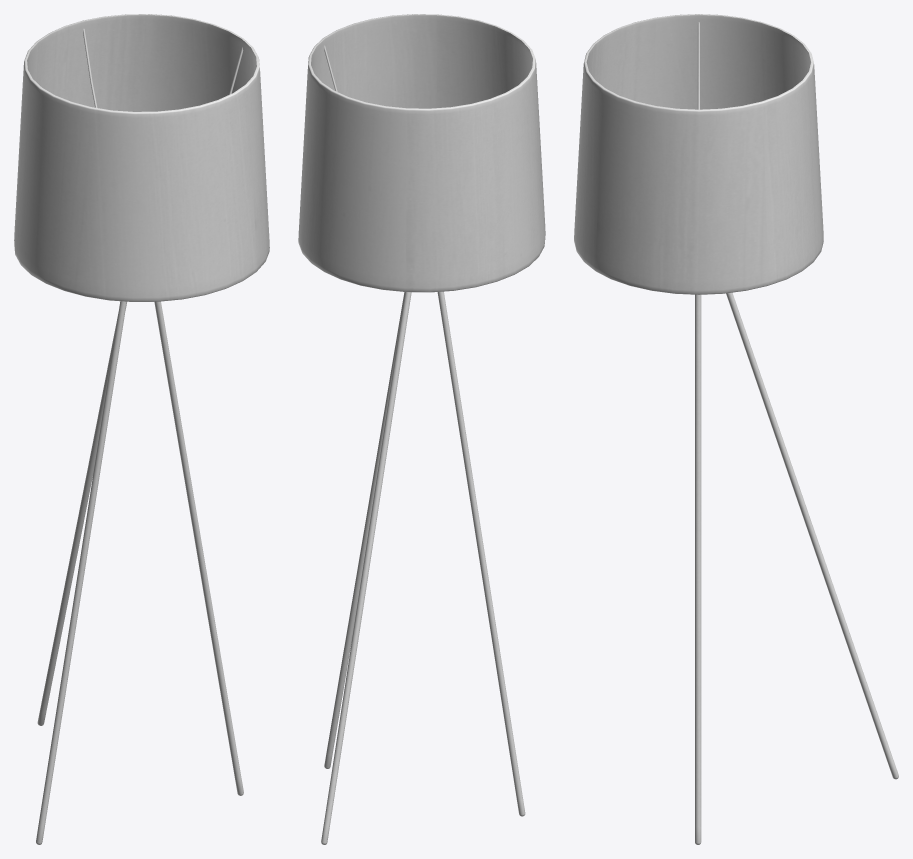
File: ore-3legged-white_baked.glb
3 views of the same model, side by side, from view 1: azimuth 30°, elevation 25°; view 2: azimuth 150°, elevation 25°; view 3: azimuth 270°, elevation 25° (orthographic). The views are drawn at different scales.
Parts seen in each view (by area): view 1: Mesh_0.010; view 2: Mesh_0.010; view 3: Mesh_0.010.
Boxes of the visible parts, left/top/right/bottom form: Mesh_0.010: left=14, top=14, right=269, bottom=844; Mesh_0.010: left=298, top=14, right=545, bottom=844; Mesh_0.010: left=574, top=14, right=898, bottom=844.
Bounding box in the file's own units: 44.4 × 144 × 57.75.
Materials: 1 (1 with a texture image).
